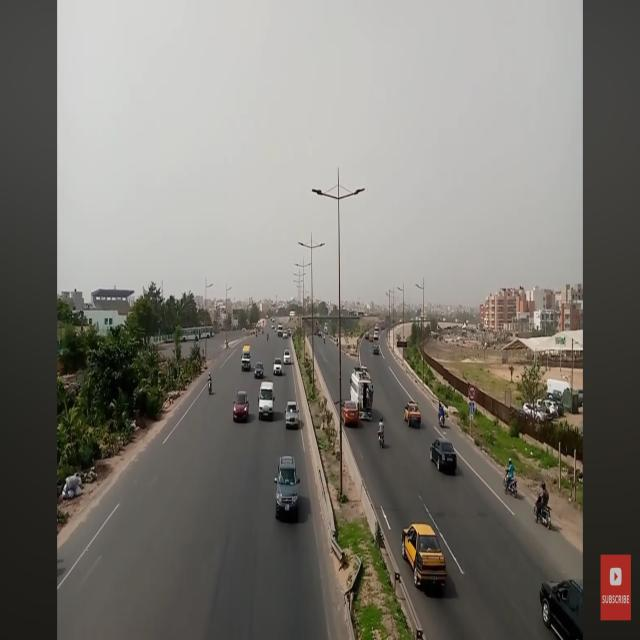car rapide: (242, 345, 252, 371)
moto: (534, 495, 553, 532), (503, 469, 519, 501), (378, 429, 387, 452), (439, 412, 447, 431), (208, 379, 214, 398)
ndiaga ndiaye: (350, 367, 375, 423)
particulier: (540, 576, 584, 640), (275, 455, 302, 522), (430, 438, 459, 476), (259, 380, 276, 422), (234, 389, 250, 424), (341, 400, 360, 428), (285, 401, 301, 432), (274, 358, 284, 379), (255, 362, 265, 381), (284, 349, 292, 368), (374, 343, 381, 356)
taxi: (401, 524, 448, 593), (404, 400, 423, 431)
